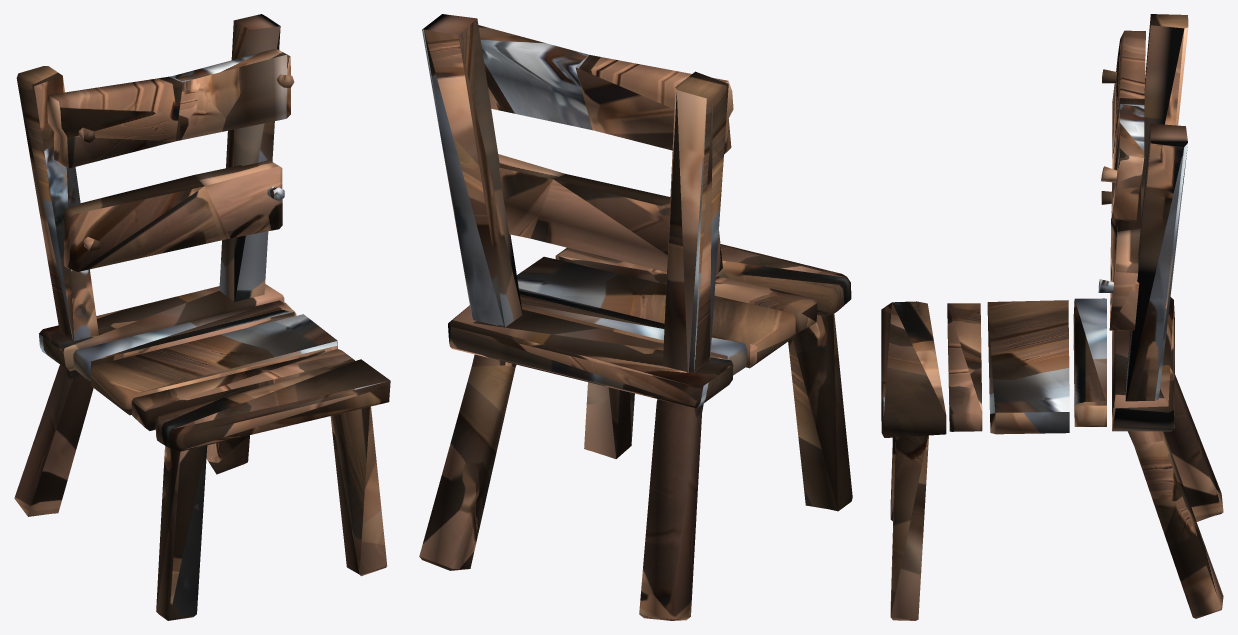
Rendered from wooden_chair_3d_model_1.fbx.
The picture shows the model from 3 angles, left to right: view 1: azimuth 30°, elevation 25°; view 2: azimuth 150°, elevation 25°; view 3: azimuth 270°, elevation 25°; orthographic projection. The views are drawn at different scales.
Parts seen in each view (by area): view 1: tripo_node_b07a5219; view 2: tripo_node_b07a5219; view 3: tripo_node_b07a5219.
Boxes of the visible parts, x1,y1,x2,y2 form: tripo_node_b07a5219: [14, 14, 390, 620]; tripo_node_b07a5219: [419, 14, 852, 620]; tripo_node_b07a5219: [881, 14, 1223, 620].
Size of the model in its own units: 0.5737 by 0.9995 by 0.6313.
